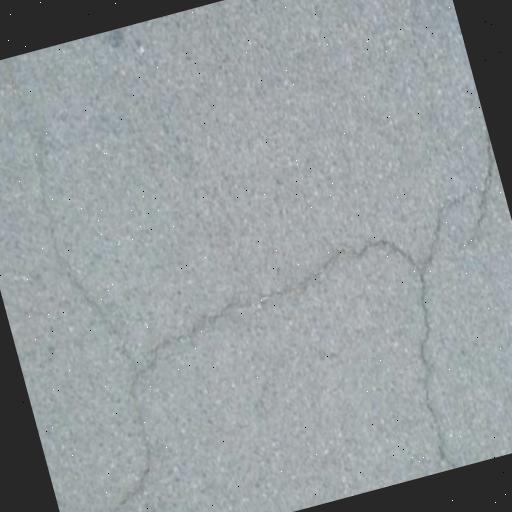spalling: (0, 63, 172, 512), (131, 220, 415, 397), (392, 146, 507, 473)
